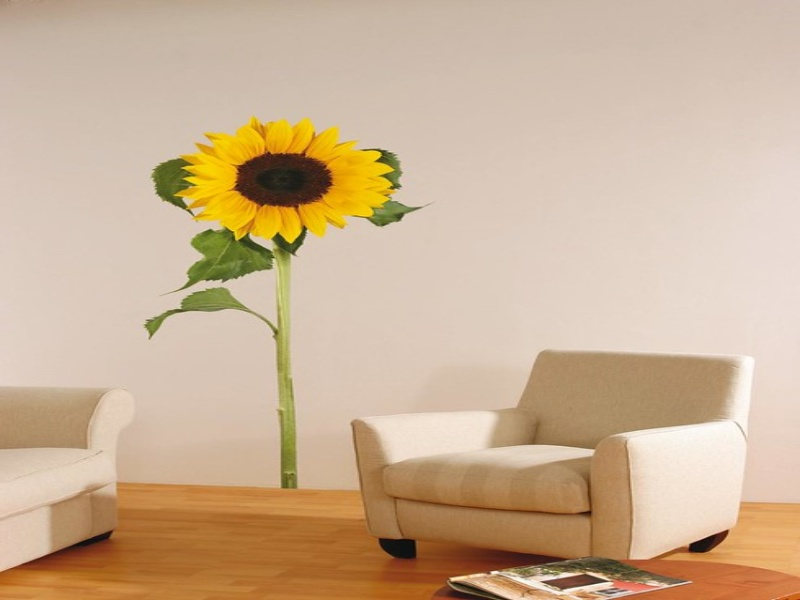sunflower: (138, 117, 432, 501)
